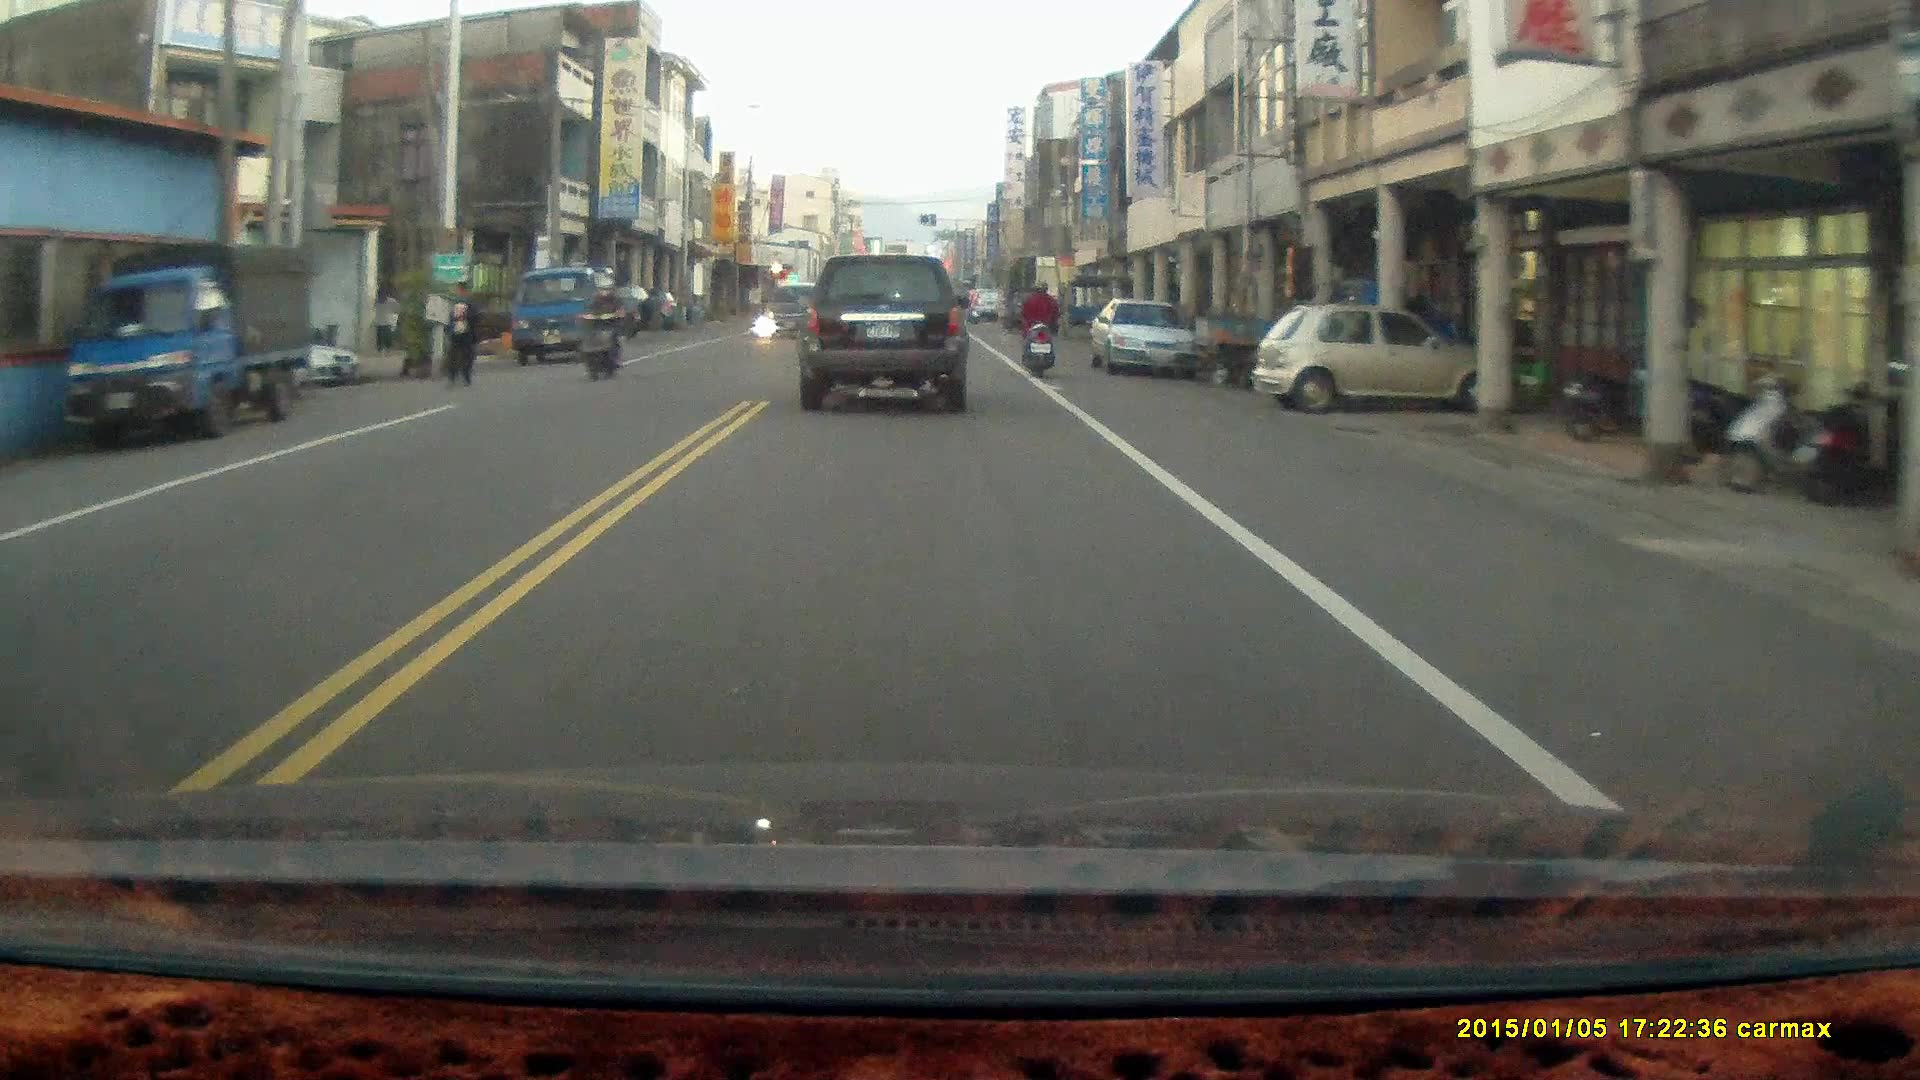pedestrian: (440, 275, 483, 391)
rider: (575, 276, 628, 381), (1019, 273, 1059, 372)
vehicle: (58, 239, 319, 451), (794, 250, 972, 415), (1255, 302, 1507, 410), (513, 264, 646, 362), (237, 317, 363, 390), (1091, 299, 1201, 377)
